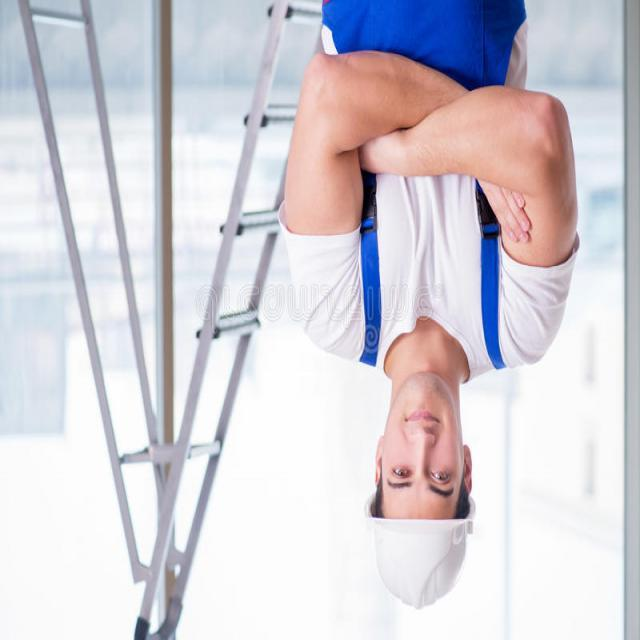safetyhelmet: (339, 360, 501, 622)
